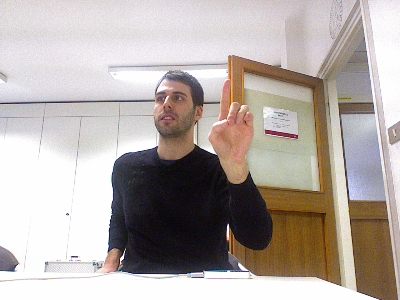食指: (206, 77, 254, 163)
